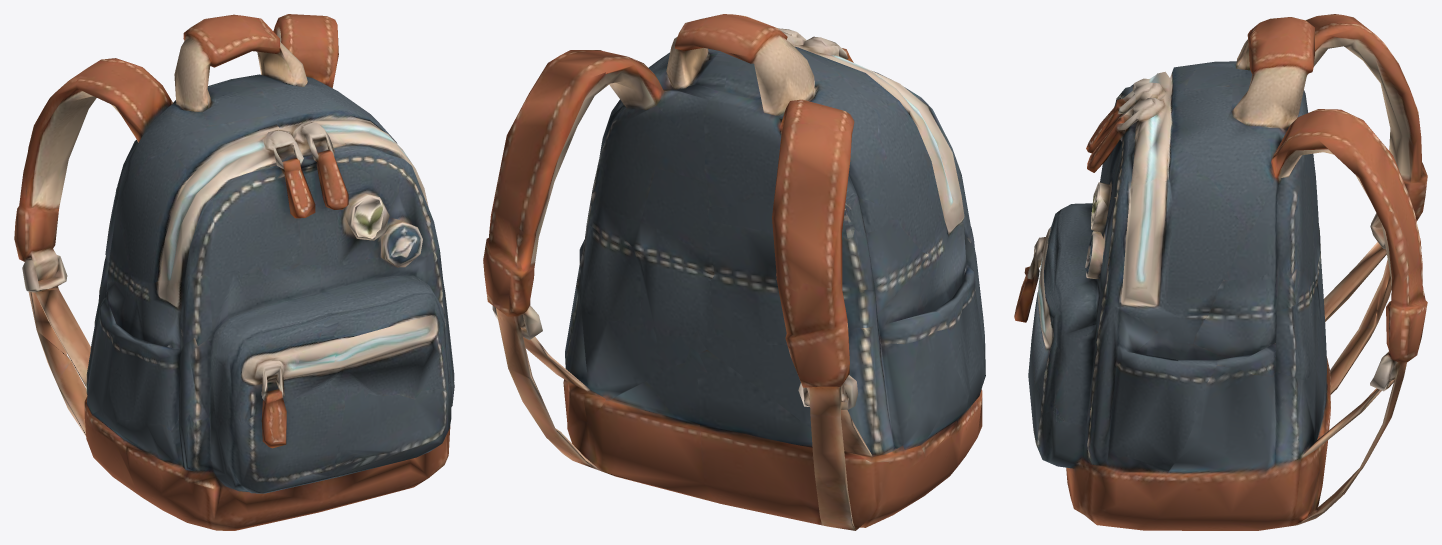
Rendered from backpack.medium.glb.
The picture shows the model from 3 angles, left to right: view 1: azimuth 30°, elevation 25°; view 2: azimuth 150°, elevation 25°; view 3: azimuth 270°, elevation 25°; orthographic projection. The views are drawn at different scales.
Parts seen in each view (by area): view 1: tripo_node_ce3b1d8a-26e9-4df6-8b5f-84b92dfa015a; view 2: tripo_node_ce3b1d8a-26e9-4df6-8b5f-84b92dfa015a; view 3: tripo_node_ce3b1d8a-26e9-4df6-8b5f-84b92dfa015a.
Part boxes in pixels (x1,y1,x2,y2): tripo_node_ce3b1d8a-26e9-4df6-8b5f-84b92dfa015a: (14, 14, 454, 530); tripo_node_ce3b1d8a-26e9-4df6-8b5f-84b92dfa015a: (483, 14, 985, 530); tripo_node_ce3b1d8a-26e9-4df6-8b5f-84b92dfa015a: (1014, 14, 1427, 530).
Size of the model in its own units: 0.3362 by 0.4195 by 0.3533.
1 material, 1 textured.
